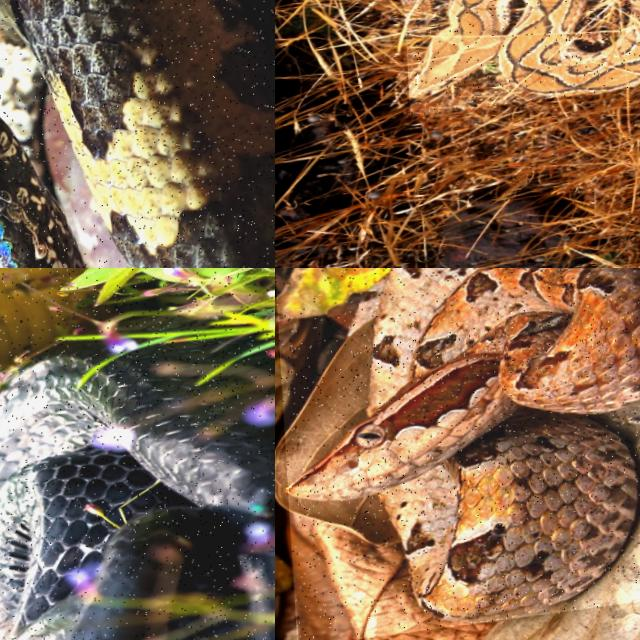Calloselasma rhodostoma: (288, 268, 639, 621)
Daboia siamensis: (409, 0, 639, 96)
Ophiophagus hannah: (0, 340, 274, 639)
Ovophis monticola: (0, 0, 274, 267)
snake: (288, 268, 639, 621), (0, 340, 274, 639), (0, 0, 274, 267), (409, 0, 639, 96)
